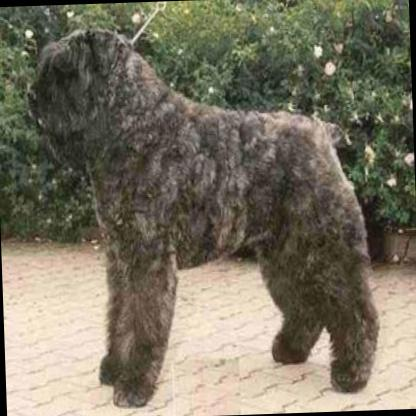Bouvier_des_Flandres: (20, 12, 378, 411)
